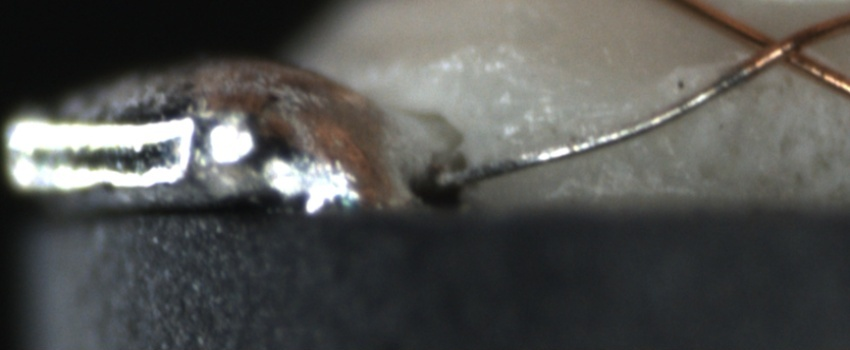CL: (732, 17, 824, 77)
TS: (439, 67, 753, 187)
TTCW: (438, 35, 805, 191)
